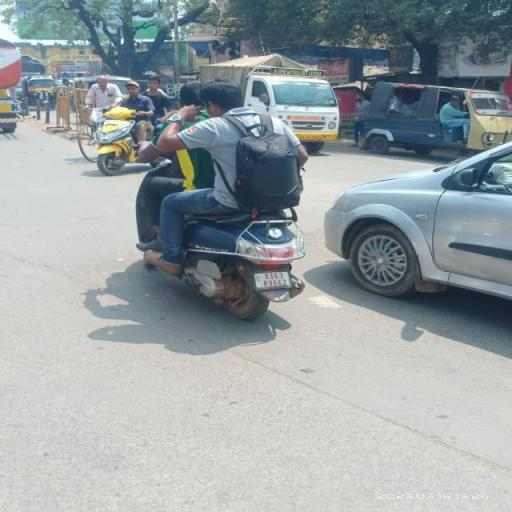bike: (128, 80, 324, 322)
numberplate: (256, 272, 290, 290)
withouthelmet: (205, 82, 241, 114), (180, 84, 200, 113)
